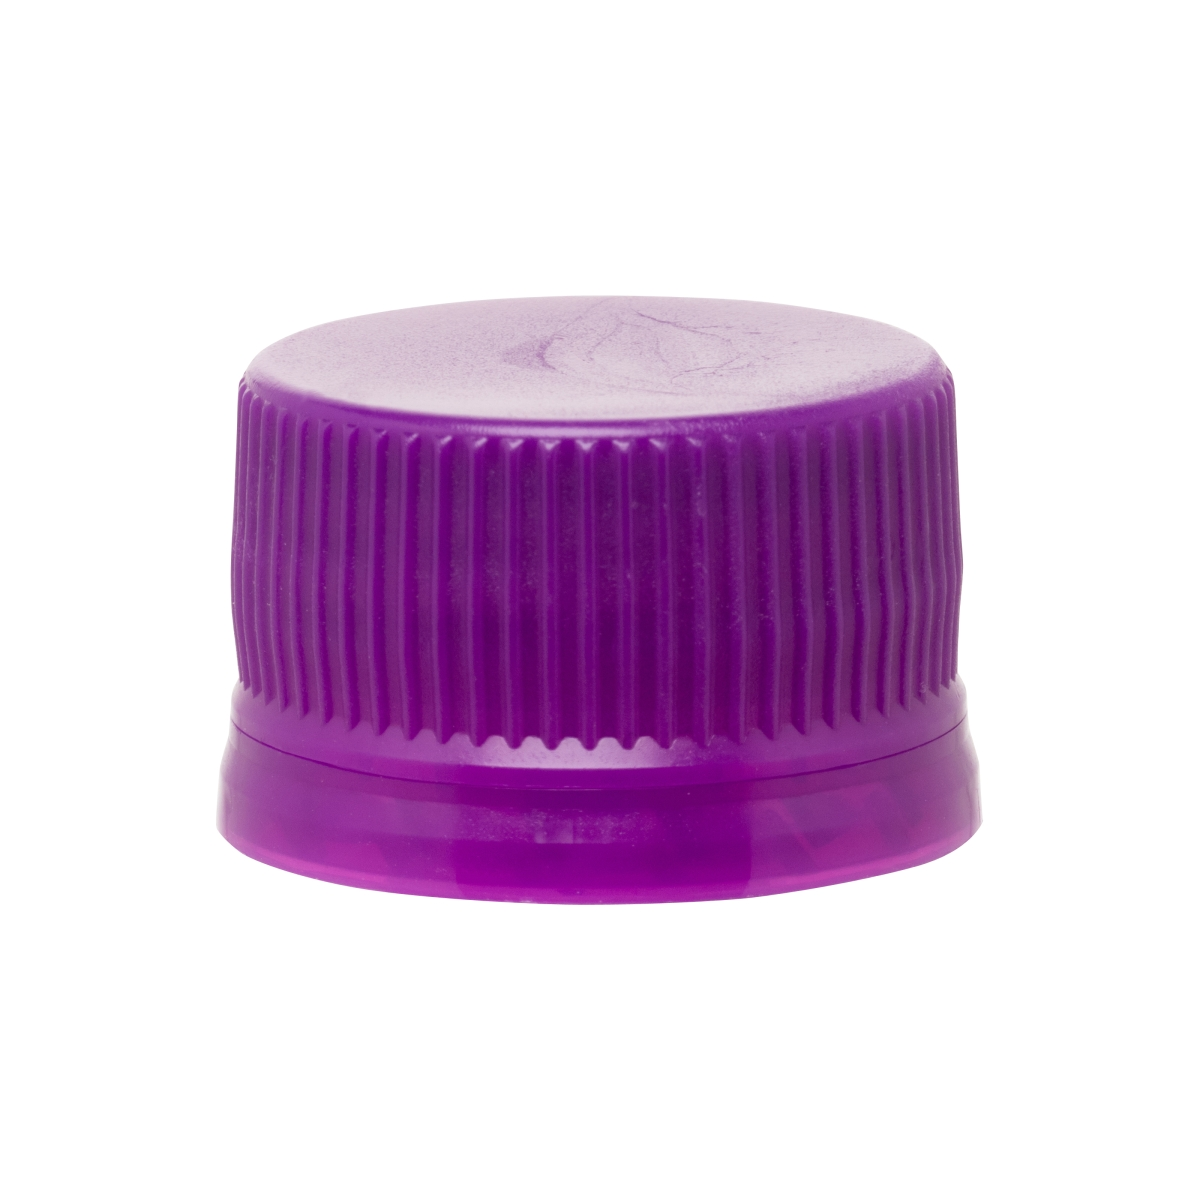plasticCap: (162, 278, 1044, 927)
